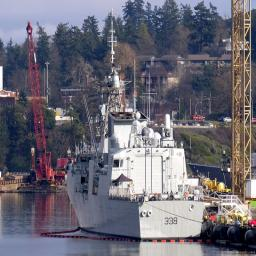Fragata: (66, 6, 208, 243)
